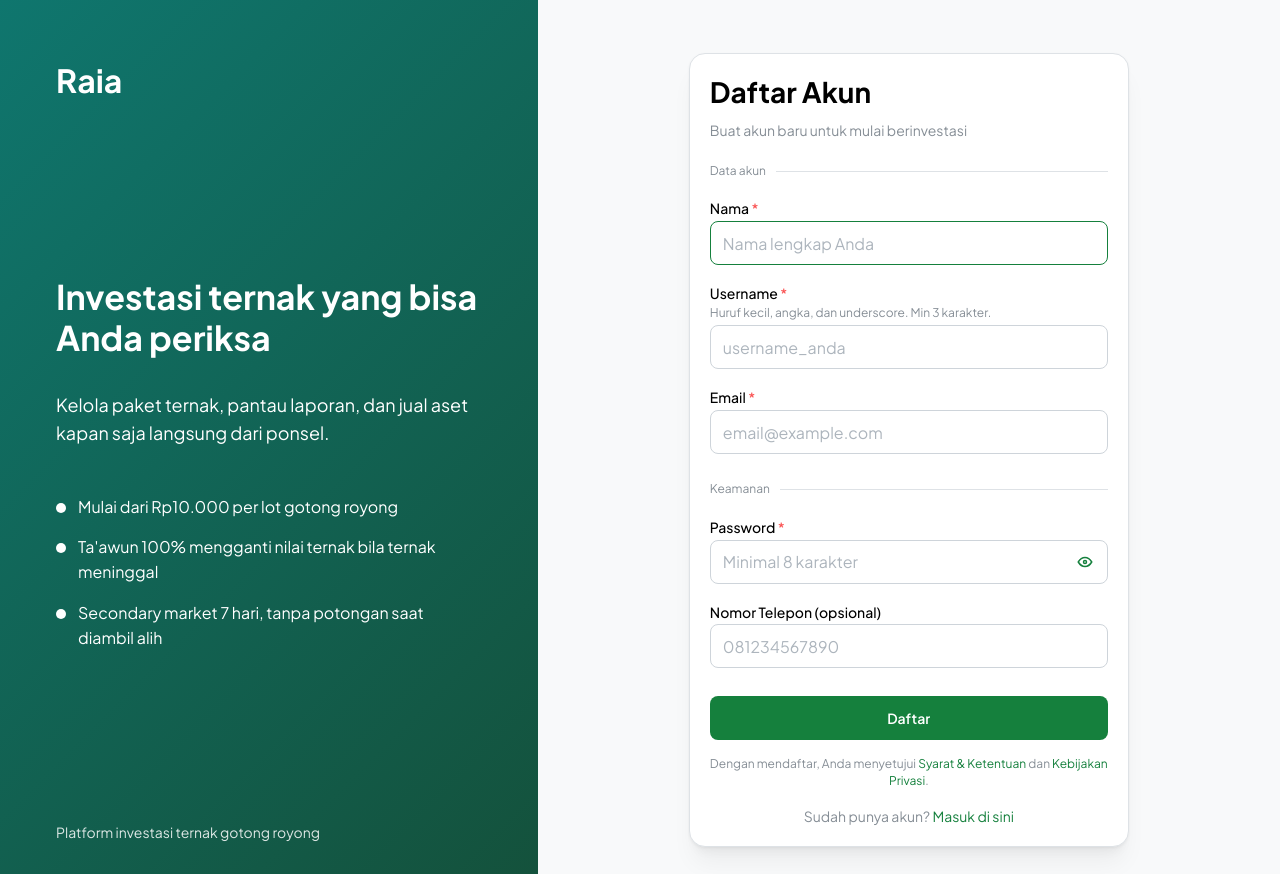
Test: Registration, Login, and KYC Flow › register page announces a server error in a polite live region
Step 1. Type "Budi Santoso" into the field labelled "Nama *" → (909, 243), box [710, 221, 1108, 265]
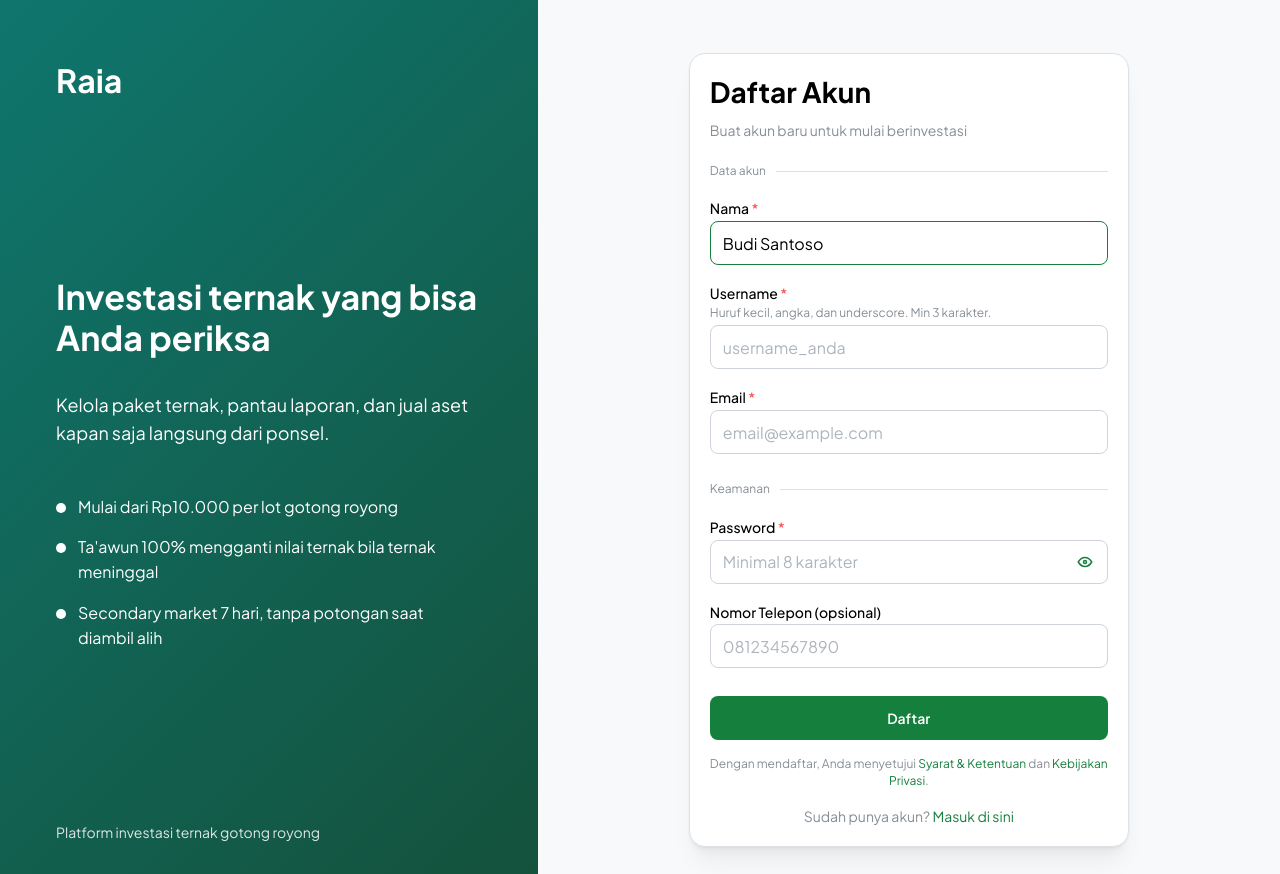
Step 2. Type "budi_investor" into the field labelled "Username *" → (909, 347), box [710, 325, 1108, 369]
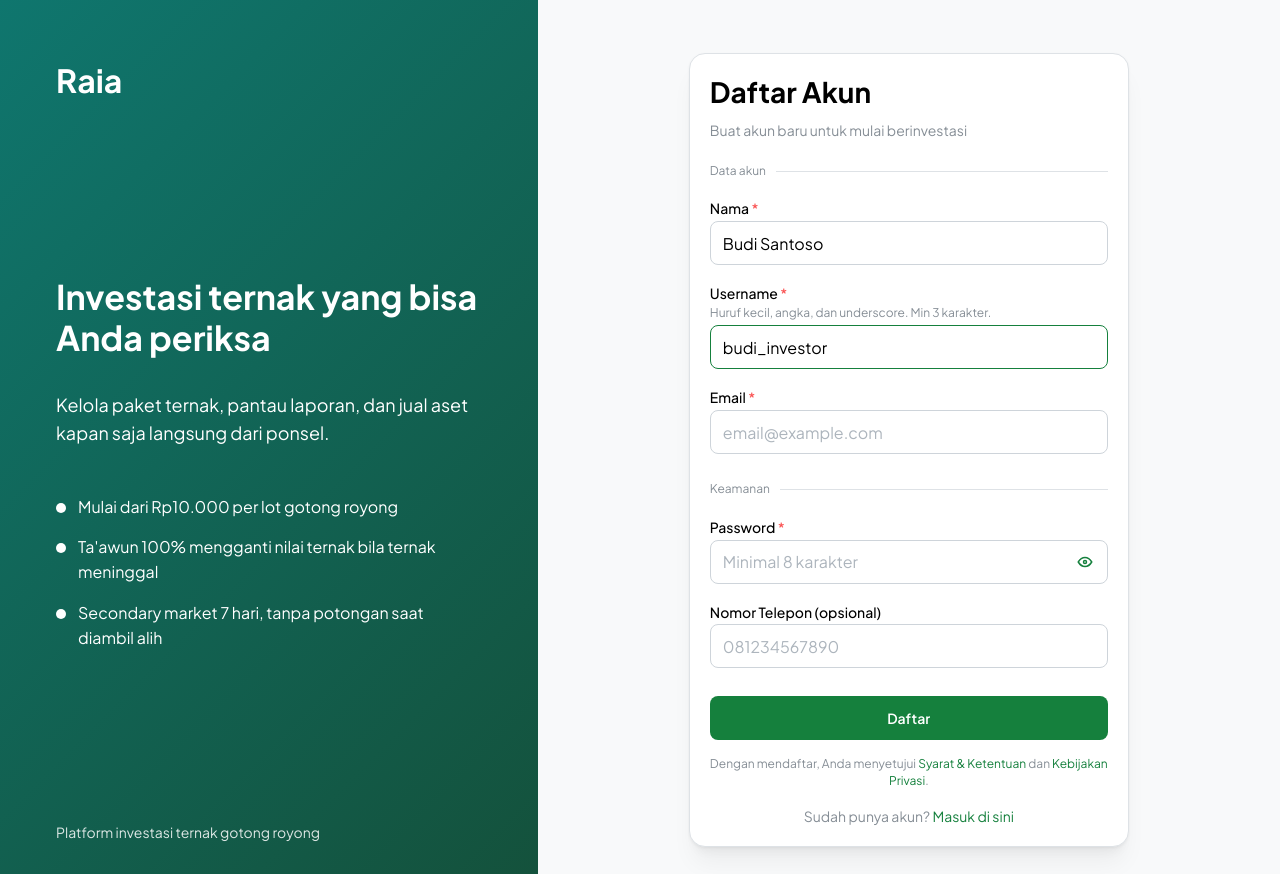
Step 3. Type "budi@example.com" into the field labelled "Email *" → (909, 432), box [710, 410, 1108, 454]
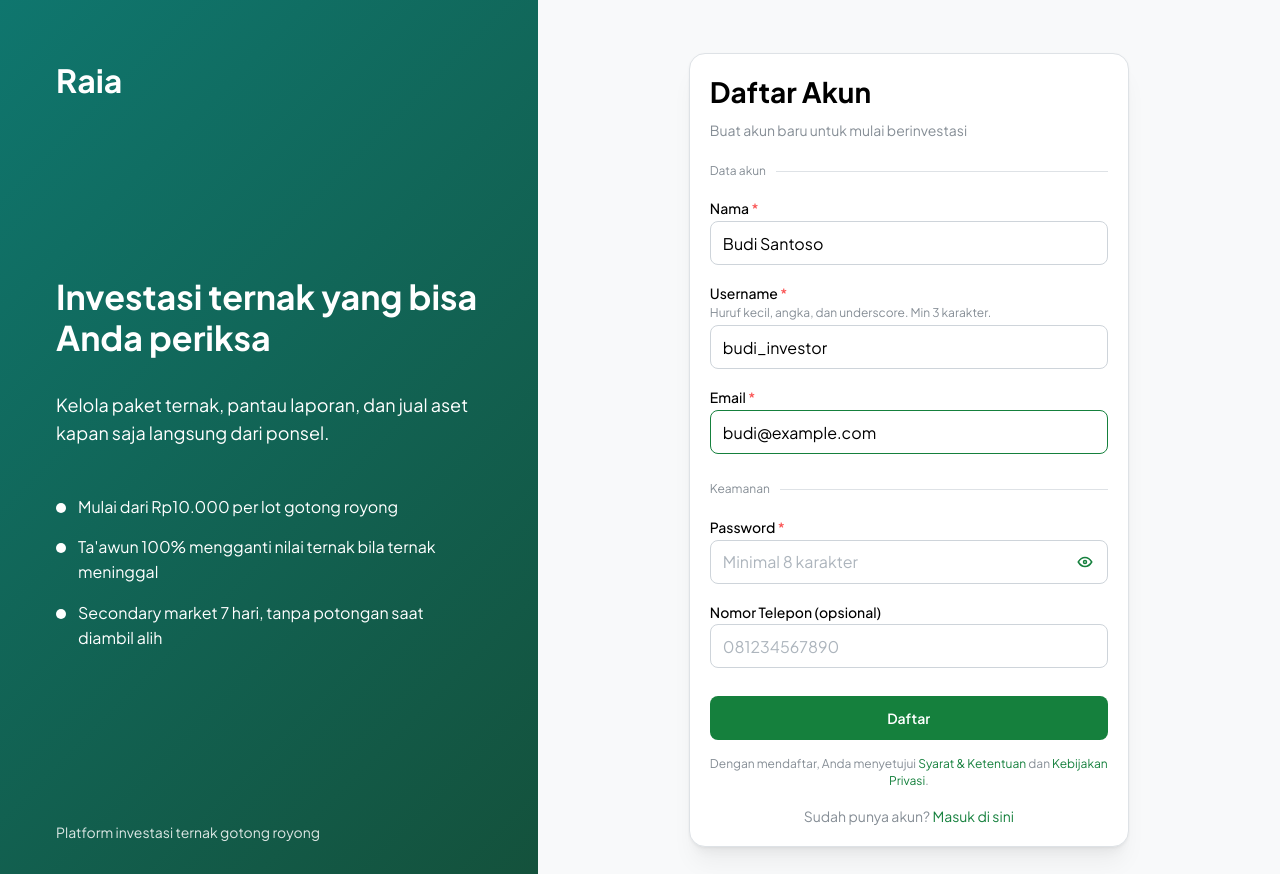
Step 4. Type "password123" into the password field labelled "Password *" → (909, 562), box [710, 540, 1108, 584]
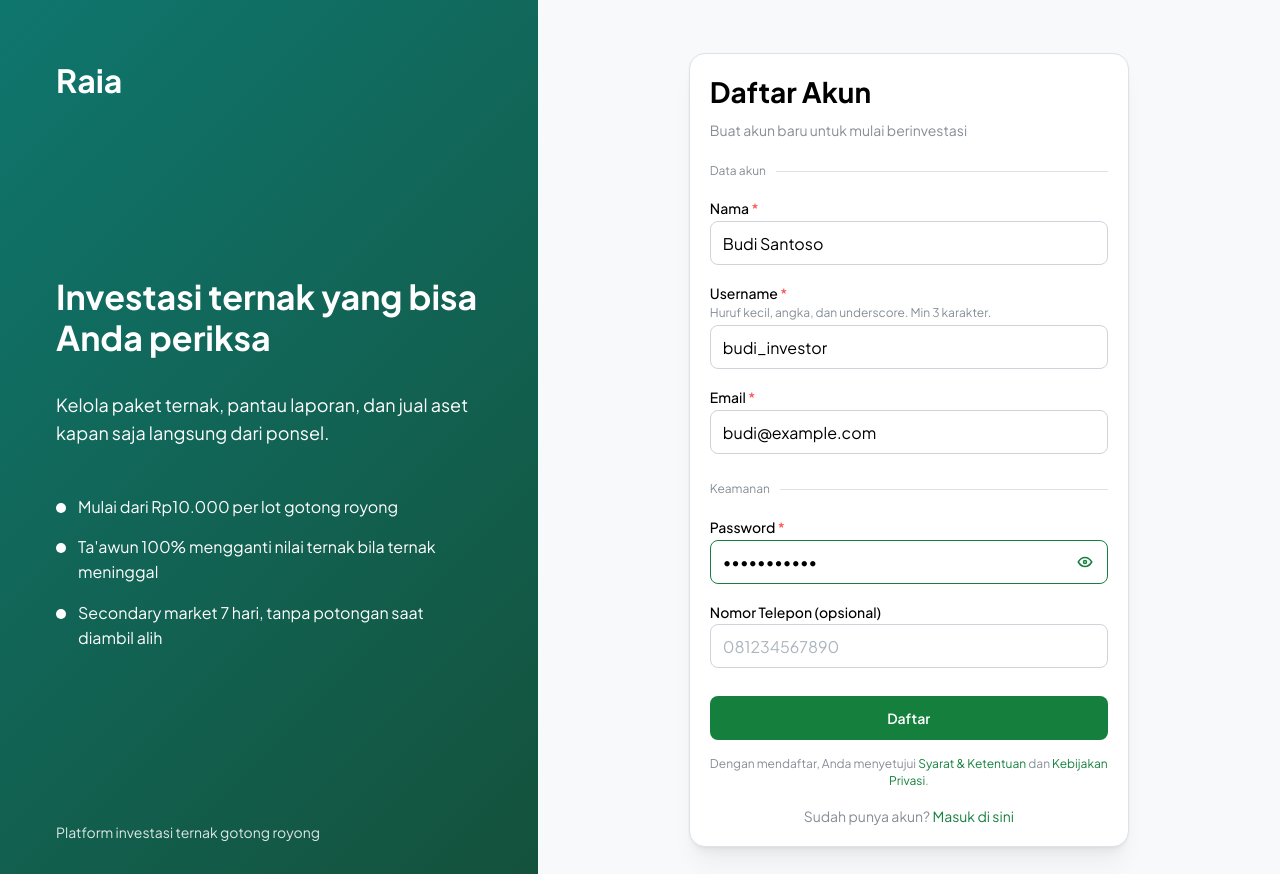
Step 5. Click the button "Daftar" → (909, 718), box [710, 696, 1108, 740]
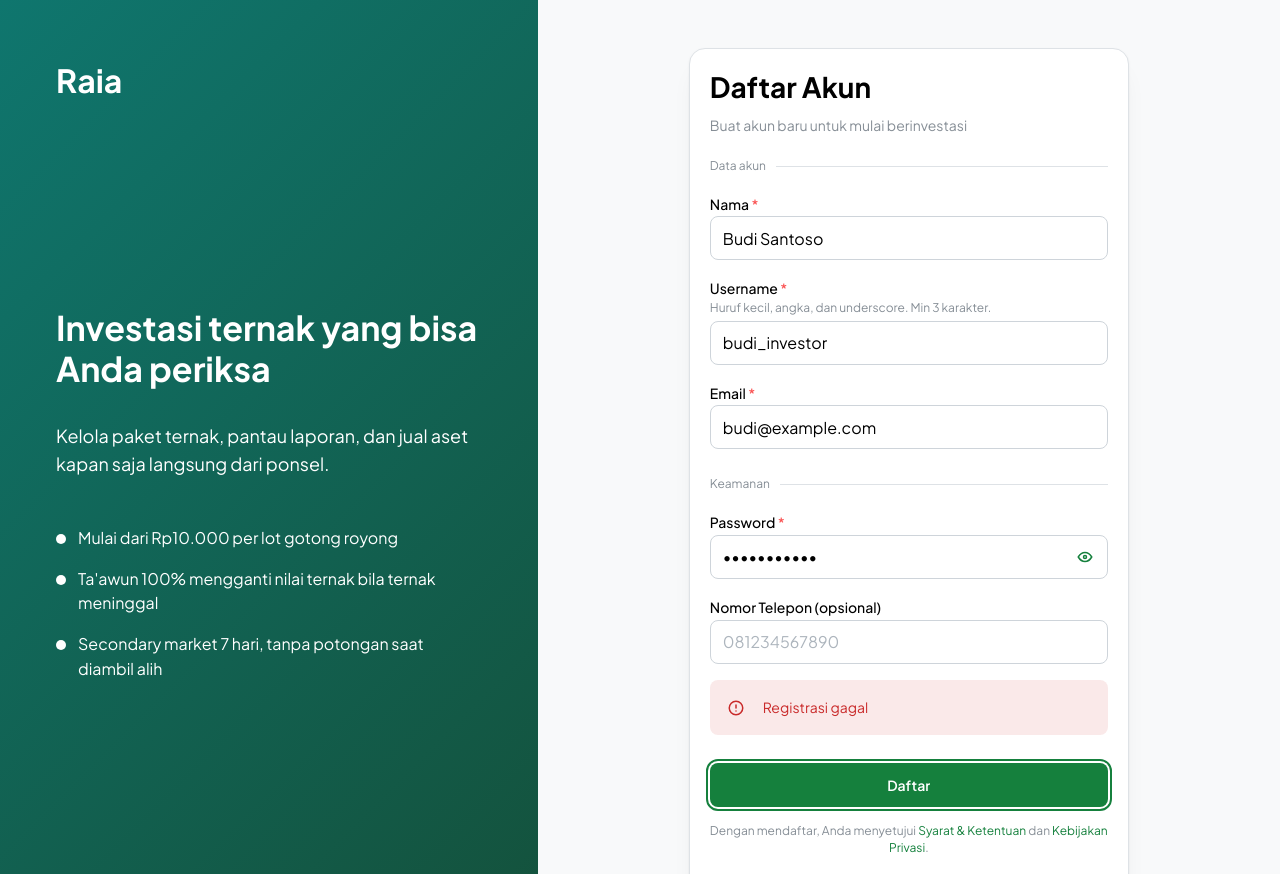
Expected: the message reads "Registrasi gagal", [763, 698, 868, 716]
